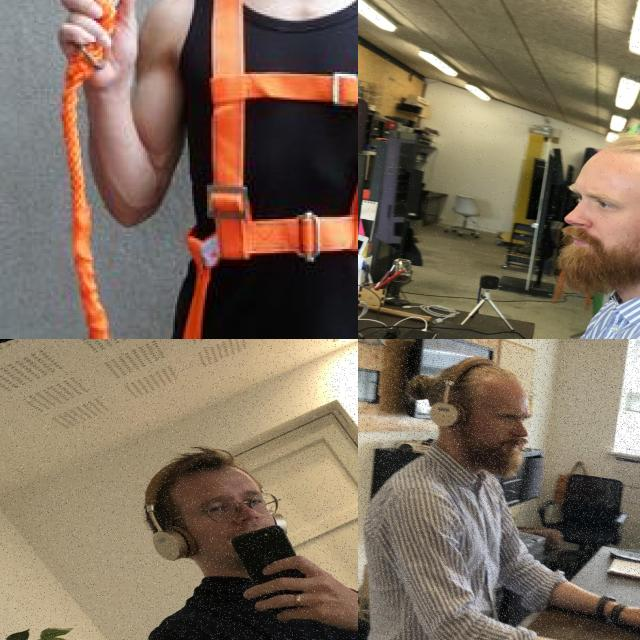Ear-protection: (110, 434, 310, 601), (413, 345, 540, 478)
Harness: (173, 0, 358, 339)
